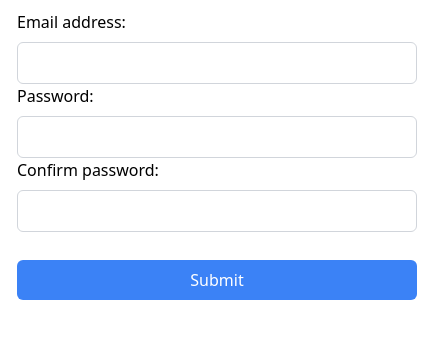
Test: 05-form-testing › should show confirm password error if passwords do not match
Check: the text "passwords do not match" is not shown
# Type the invalid confirm password
Type "test@test.com" into the field labelled "Email address:" at (217, 63), box top-left (17, 42), bottom-right (417, 84)
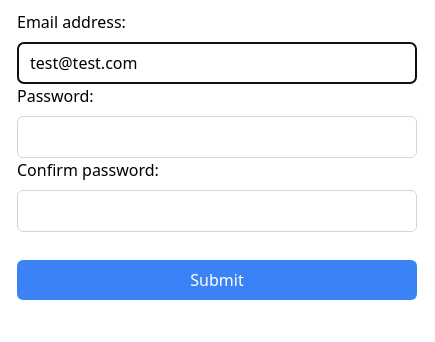
Type "123456" into the password field labelled "Password:" at (217, 137), box top-left (17, 116), bottom-right (417, 158)
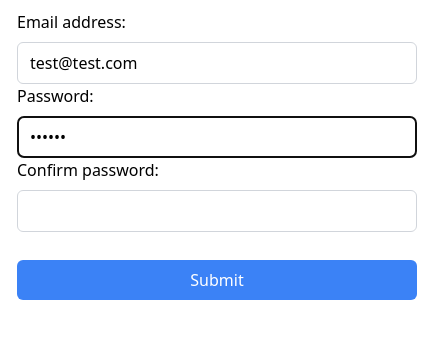
Type "1234567" into the password field labelled "Confirm password:" at (217, 211), box top-left (17, 190), bottom-right (417, 232)
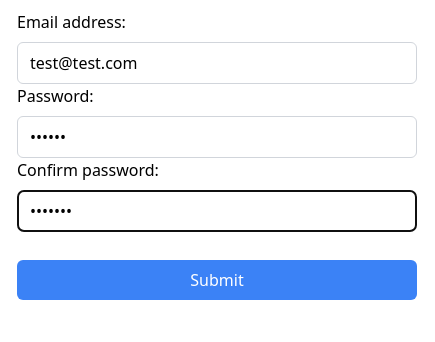
Click the button "Submit" at (217, 280), box top-left (17, 260), bottom-right (417, 300)
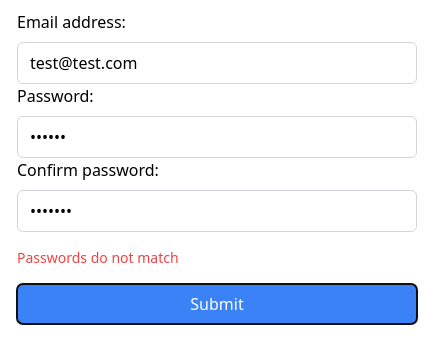
Check: the text "Passwords do not match" is shown, box top-left (17, 248), bottom-right (179, 267)
